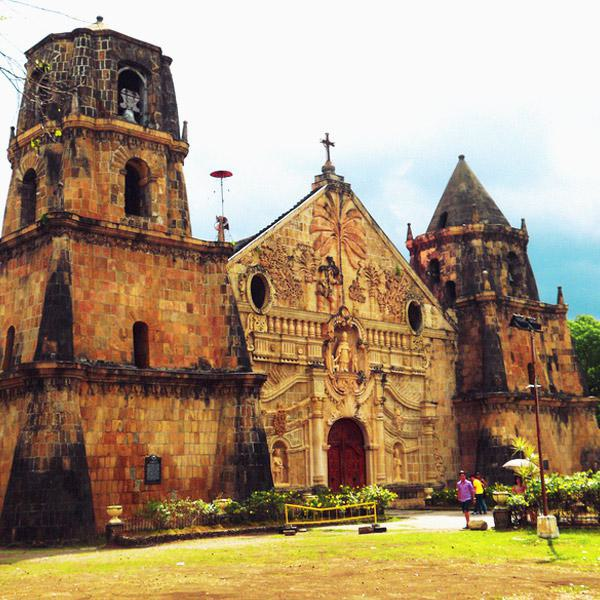miagao_church_miagao_iloilo: (3, 17, 600, 515)
